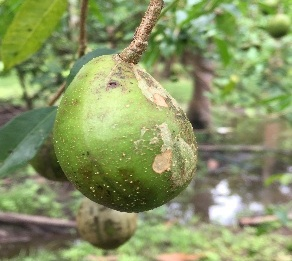Coc: (50, 54, 202, 226)
